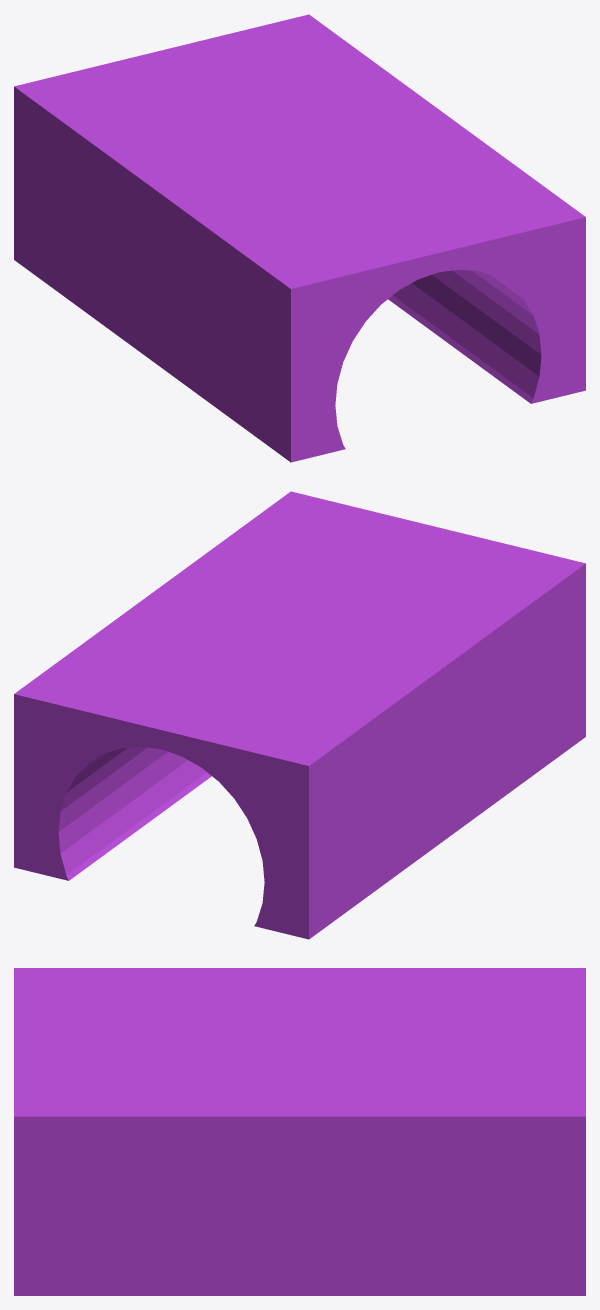
The model's file is tunnel.fbx.
3 views of the same model, one above another, from view 1: azimuth 30°, elevation 25°; view 2: azimuth 150°, elevation 25°; view 3: azimuth 270°, elevation 25° (orthographic). The views are drawn at different scales.
Parts seen in each view (by area): view 1: 立方體; view 2: 立方體; view 3: 立方體.
Part boxes in pixels (<box>): 立方體: <box>14,14,585,462</box>; 立方體: <box>14,491,585,939</box>; 立方體: <box>14,968,585,1295</box>.
Bounding box in the file's own units: 972 × 546 × 1580.
